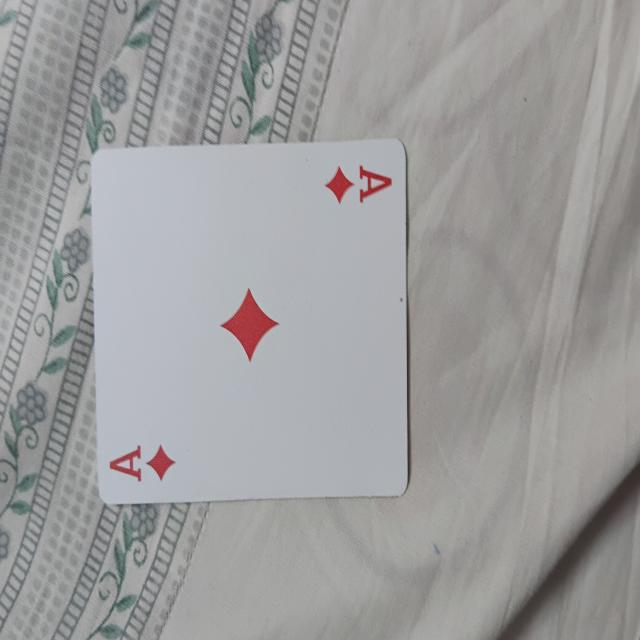AD: (91, 140, 407, 497)
